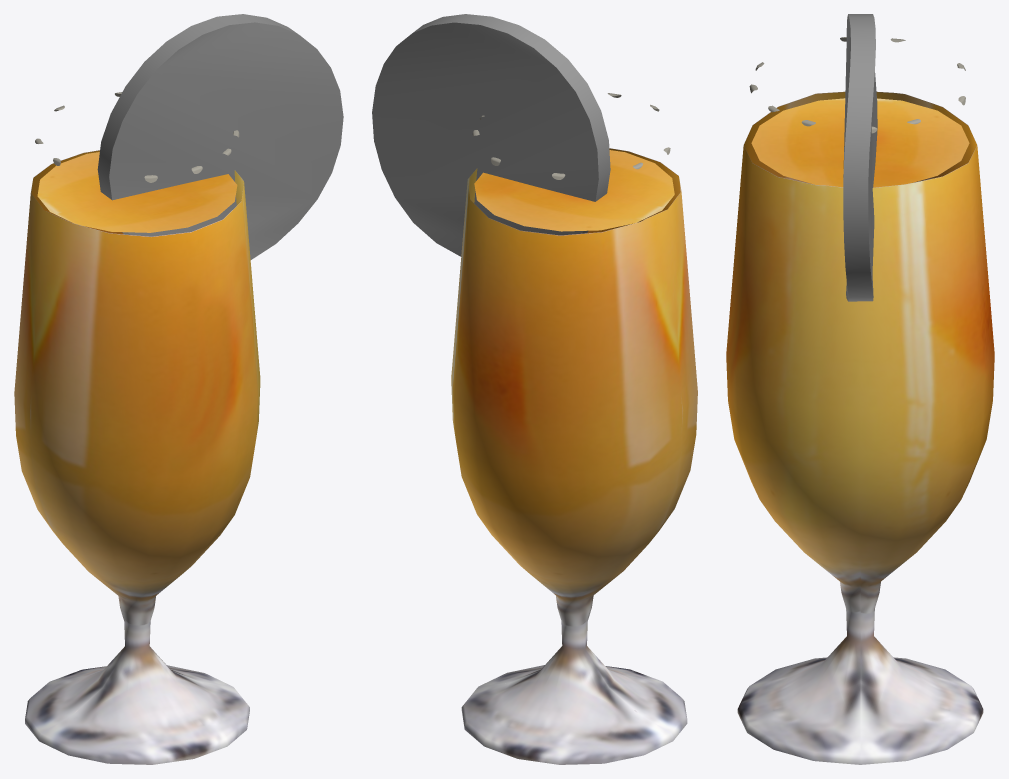
File: Cocktail01_1.FBX
3 views of the same model, side by side, from view 1: azimuth 30°, elevation 25°; view 2: azimuth 150°, elevation 25°; view 3: azimuth 270°, elevation 25° (orthographic). The views are drawn at different scales.
Parts seen in each view (by area): view 1: Cocktail01_1; view 2: Cocktail01_1; view 3: Cocktail01_1.
Part boxes in pixels (x1,y1,x2,y2): Cocktail01_1: [14, 14, 343, 764]; Cocktail01_1: [372, 14, 697, 764]; Cocktail01_1: [726, 14, 994, 764].
Size of the model in its own units: 9.78 by 20.6 by 6.87.
